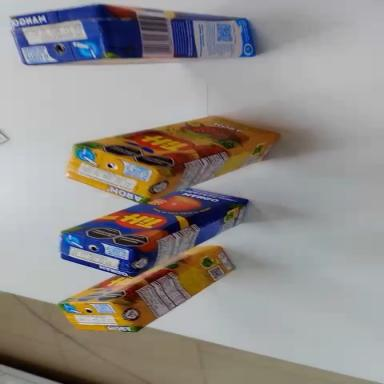HIT-MANGO: (54, 172, 258, 295), (10, 2, 258, 66)
HIT-MORA: (61, 94, 287, 219), (58, 220, 239, 359)
cara_F: (79, 85, 283, 192), (64, 158, 247, 273), (58, 225, 218, 324)
